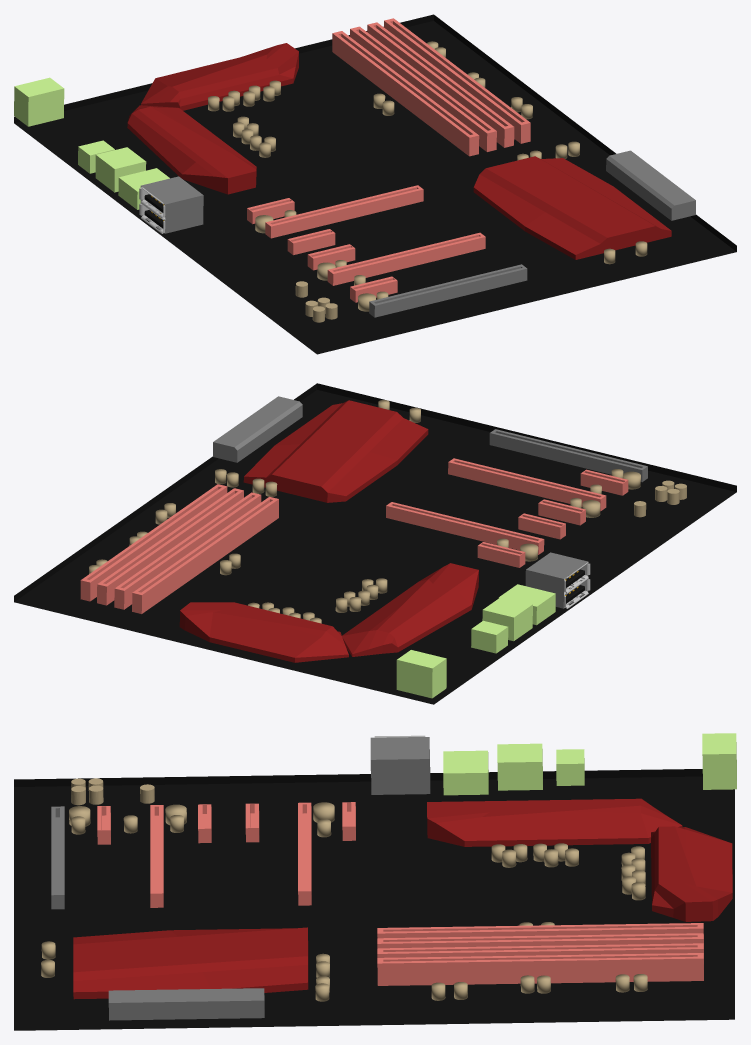
The model's file is anakart.fbx.
3 views of the same model, one above another, from view 1: azimuth 30°, elevation 25°; view 2: azimuth 150°, elevation 25°; view 3: azimuth 270°, elevation 25° (orthographic). The views are drawn at different scales.
Visible parts, largest first — view 1: Cubo_002, Cubo_003, Cubo_004, Cubo_005, Cilindro_027, Cubo_006, Cubo_010, Cubo, Cubo_001, Cubo_007, Cubo_008, Cubo_009 (+9 smaller); view 2: Cubo_002, Cubo_003, Cubo_005, Cubo_004, Cilindro_027, Cubo_006, Cubo_010, Cubo_007, Cubo_008, Cubo_001, Cubo, Cubo_009 (+9 smaller); view 3: Cubo_002, Cubo_003, Cubo_004, Cubo_009, Cilindro_027, Cubo_005, Cubo_010, Cubo_006, Cubo_007, Cubo_015, Cubo_008, Cubo_017 (+9 smaller).
Boxes of the visible parts, <box> form: Cubo_002: <box>14,14,736,354</box>; Cubo_003: <box>473,156,671,259</box>; Cubo_004: <box>127,105,256,194</box>; Cubo_005: <box>141,43,298,110</box>; Cilindro_027: <box>208,41,647,311</box>; Cubo_006: <box>332,31,479,156</box>; Cubo_010: <box>606,150,695,220</box>; Cubo: <box>265,185,423,238</box>; Cubo_001: <box>327,232,485,285</box>; Cubo_007: <box>350,26,496,151</box>; Cubo_008: <box>367,22,514,147</box>; Cubo_009: <box>384,18,530,143</box>; Cubo_002: <box>14,383,736,704</box>; Cubo_003: <box>243,400,428,502</box>; Cubo_005: <box>179,602,348,662</box>; Cubo_004: <box>342,563,478,656</box>; Cilindro_027: <box>89,400,640,623</box>; Cubo_006: <box>132,496,278,613</box>; Cubo_010: <box>213,396,302,462</box>; Cubo_007: <box>114,492,261,609</box>; Cubo_008: <box>97,488,243,605</box>; Cubo_001: <box>448,458,606,511</box>; Cubo: <box>386,502,544,554</box>; Cubo_009: <box>80,484,227,601</box>; Cubo_002: <box>14,769,734,1030</box>; Cubo_003: <box>73,927,308,999</box>; Cubo_004: <box>427,798,682,846</box>; Cubo_009: <box>377,953,703,985</box>; Cilindro_027: <box>41,802,647,1001</box>; Cubo_005: <box>651,826,732,921</box>; Cubo_010: <box>108,988,264,1020</box>; Cubo_006: <box>377,923,703,944</box>; Cubo_007: <box>377,933,703,954</box>; Cubo_015: <box>370,737,430,794</box>; Cubo_008: <box>377,943,703,963</box>; Cubo_017: <box>497,743,542,790</box>.
Size of the model in its own units: 0.1924 by 0.0199 by 0.2392.
